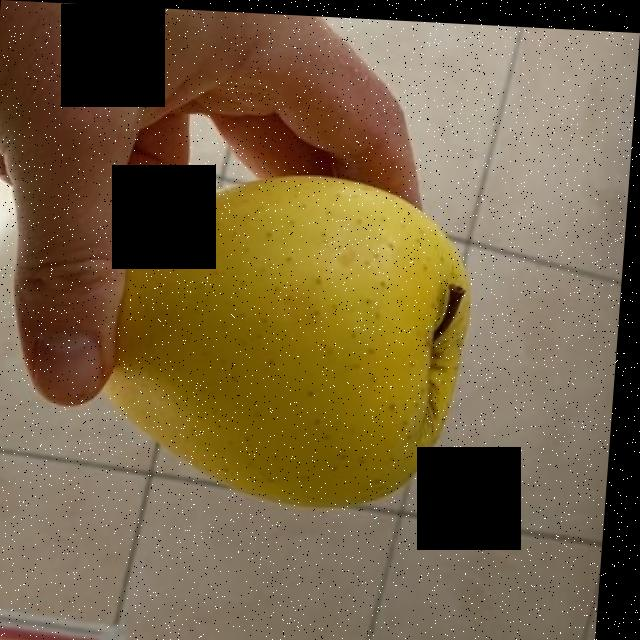apple: (118, 181, 467, 502)
